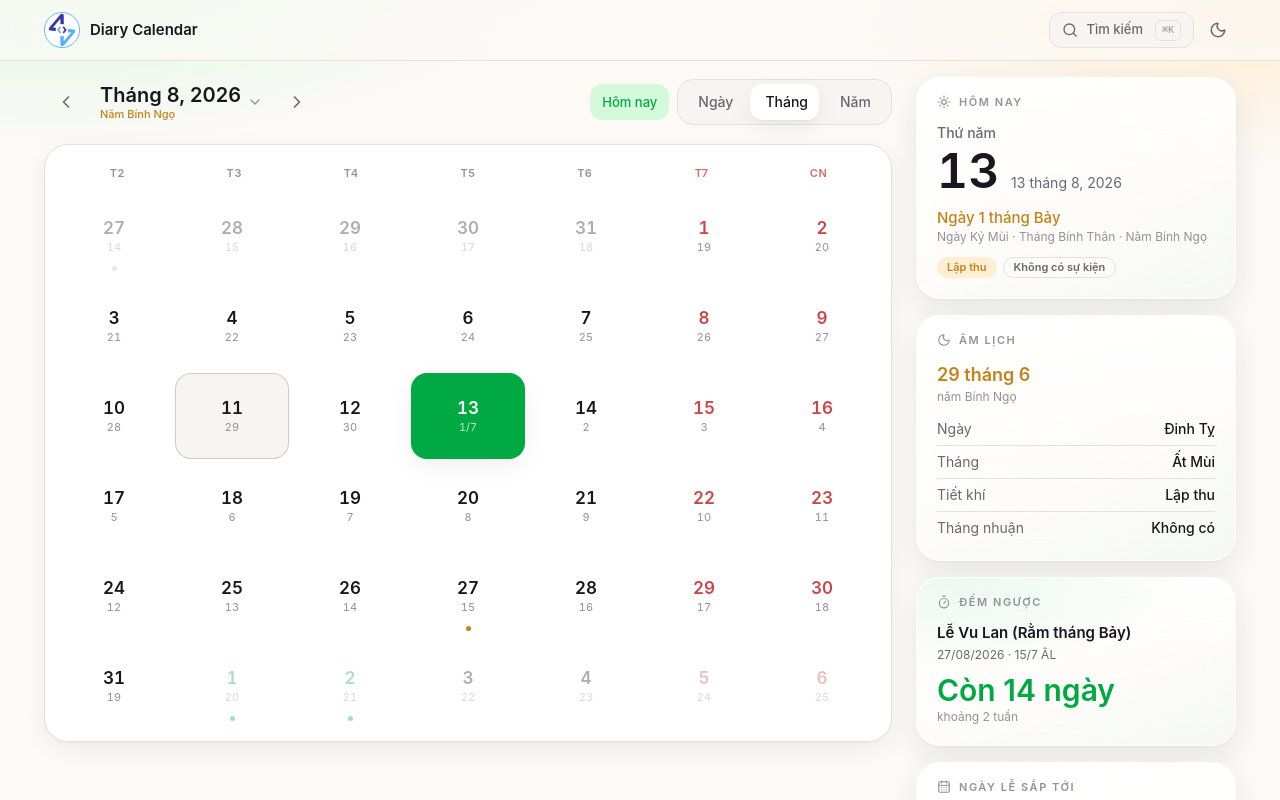
Test case: app smoke test › opens the day detail when a day is tapped
The image size is (1280, 800).
What coordinates should you click on to do the following:
click the button named "Ngày 2 tháng 9 năm 2026"
I would click on:
 (350, 686)
Its box is [293,643,407,729].
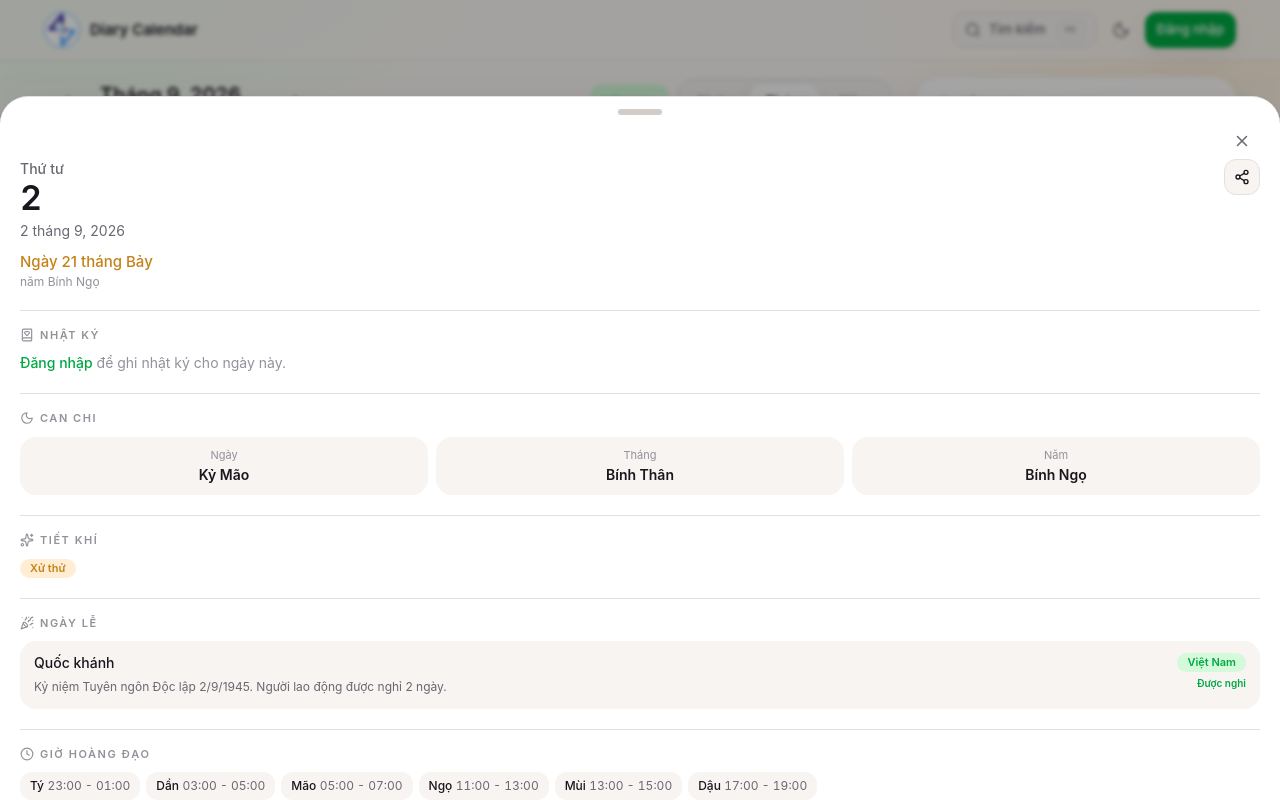
expect the heading "Can chi" is shown: met, box [20,411,97,425]
